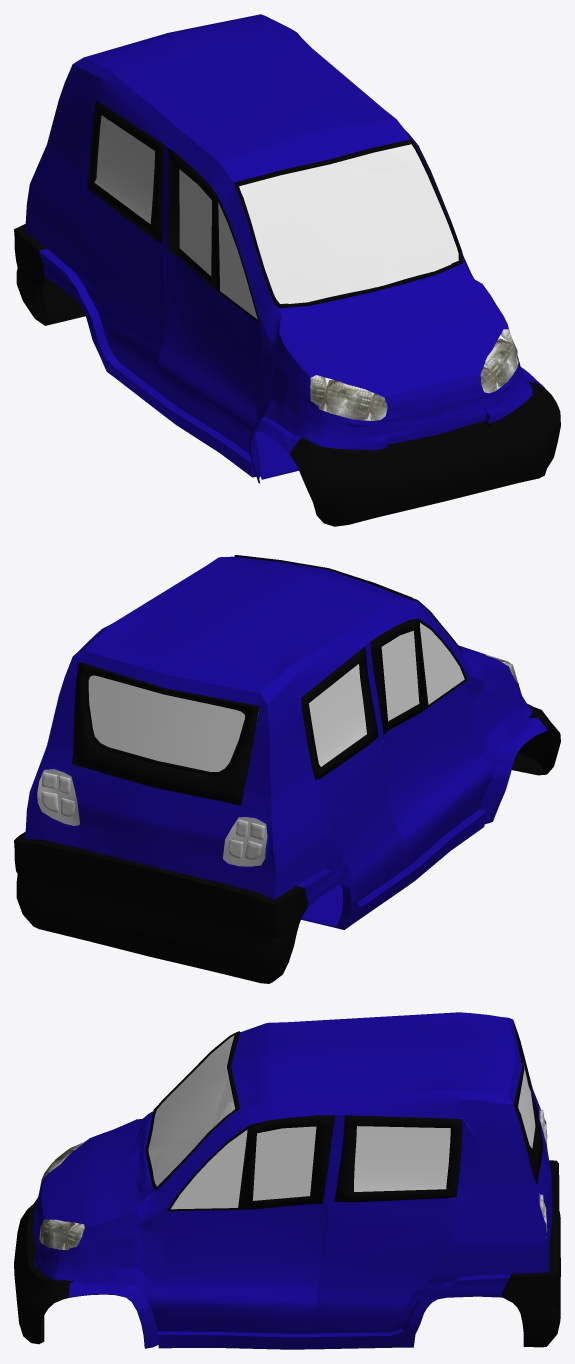
File: bajaj_qute2018qqq123f1fxlq.fbx
3 renders of one model, top to bottom at view 1: azimuth 30°, elevation 25°; view 2: azimuth 150°, elevation 25°; view 3: azimuth 270°, elevation 25°, orthographic. The views are drawn at different scales.
Visible parts, largest first — view 1: chasis, fmiror.001, bumper, fdor, bdor, coffen, flight, fmplastic; view 2: chasis, bumper, fdor, backM.001, bdor, backchanci, backlight, fmplastic; view 3: chasis, fdor, bdor, bumper, coffen, fmiror.001, backM.001, flight, fmplastic, backchanci.
Part boxes in pixels (x1,y1,x2,y2): chasis: (25, 14, 546, 483); fmiror.001: (239, 144, 458, 303); bumper: (14, 224, 560, 526); fdor: (158, 130, 462, 453); bdor: (81, 100, 165, 397); coffen: (279, 271, 508, 397); flight: (310, 329, 518, 420); fmplastic: (234, 139, 462, 308); chasis: (25, 556, 547, 929); bumper: (14, 703, 560, 983); fdor: (370, 618, 483, 872); backM.001: (72, 662, 259, 805); bdor: (296, 646, 403, 901); backchanci: (71, 765, 240, 881); backlight: (37, 769, 267, 866); fmplastic: (234, 555, 462, 653); chasis: (32, 1012, 549, 1349); fdor: (164, 1115, 334, 1333); bdor: (313, 1115, 476, 1333); bumper: (14, 1160, 560, 1347); coffen: (41, 1114, 147, 1227); fmiror.001: (148, 1035, 234, 1186); backM.001: (513, 1025, 543, 1183); flight: (39, 1142, 84, 1250); fmplastic: (145, 1031, 240, 1189); backchanci: (536, 1116, 552, 1243).
Bounding box in the file's own units: 186 × 188 × 372.
